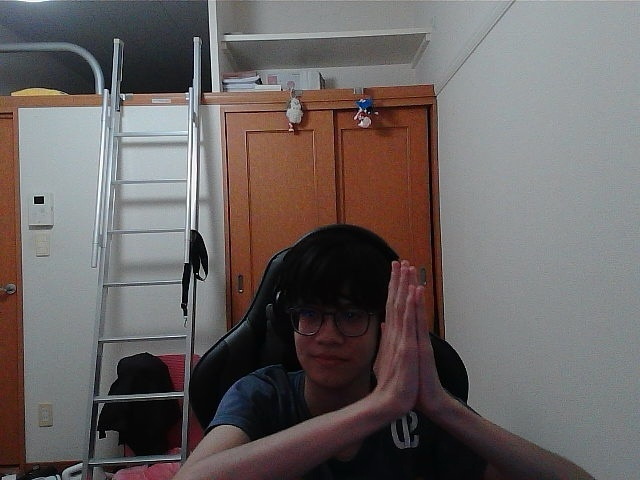pray: (383, 280, 412, 384)
